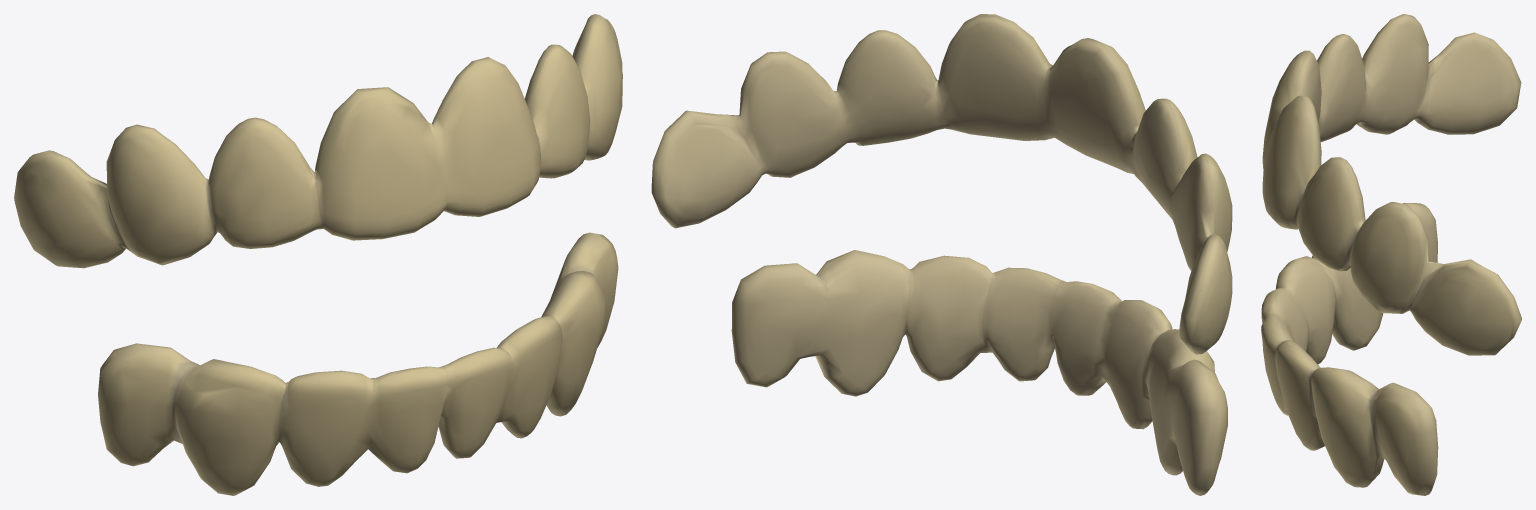
File: grillz-top.glb
The picture shows the model from 3 angles, left to right: view 1: azimuth 30°, elevation 25°; view 2: azimuth 150°, elevation 25°; view 3: azimuth 270°, elevation 25°; orthographic projection. The views are drawn at different scales.
Visible parts, largest first — view 1: Mesh0.001, Mesh0; view 2: Mesh0.001, Mesh0; view 3: Mesh0.001, Mesh0.
Boxes of the visible parts, box(x1,y1,x2,y2) form: Mesh0.001: box(14, 14, 622, 268); Mesh0: box(98, 232, 618, 495); Mesh0.001: box(651, 14, 1232, 354); Mesh0: box(731, 250, 1227, 495); Mesh0.001: box(1262, 14, 1521, 355); Mesh0: box(1261, 202, 1438, 495).
Bounding box in the file's own units: 0.3351 × 0.22 × 0.1522.
1 material, 1 textured.
